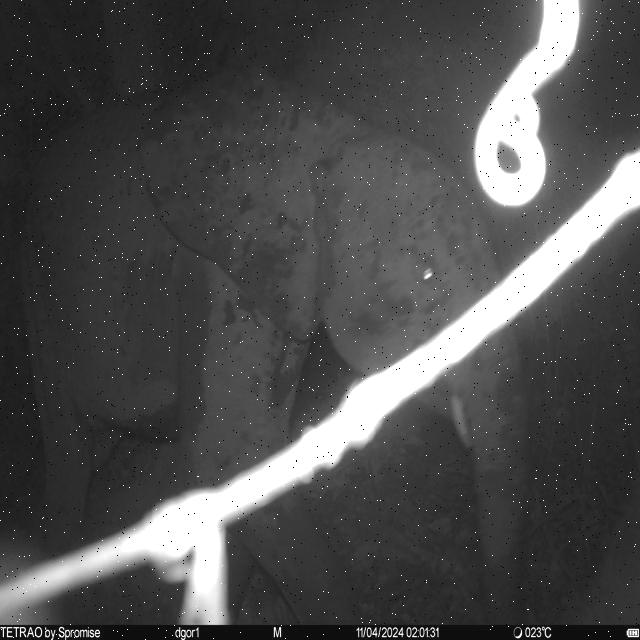ear: (142, 68, 326, 344)
elephant: (20, 70, 532, 626)
tusk: (451, 398, 475, 451)
